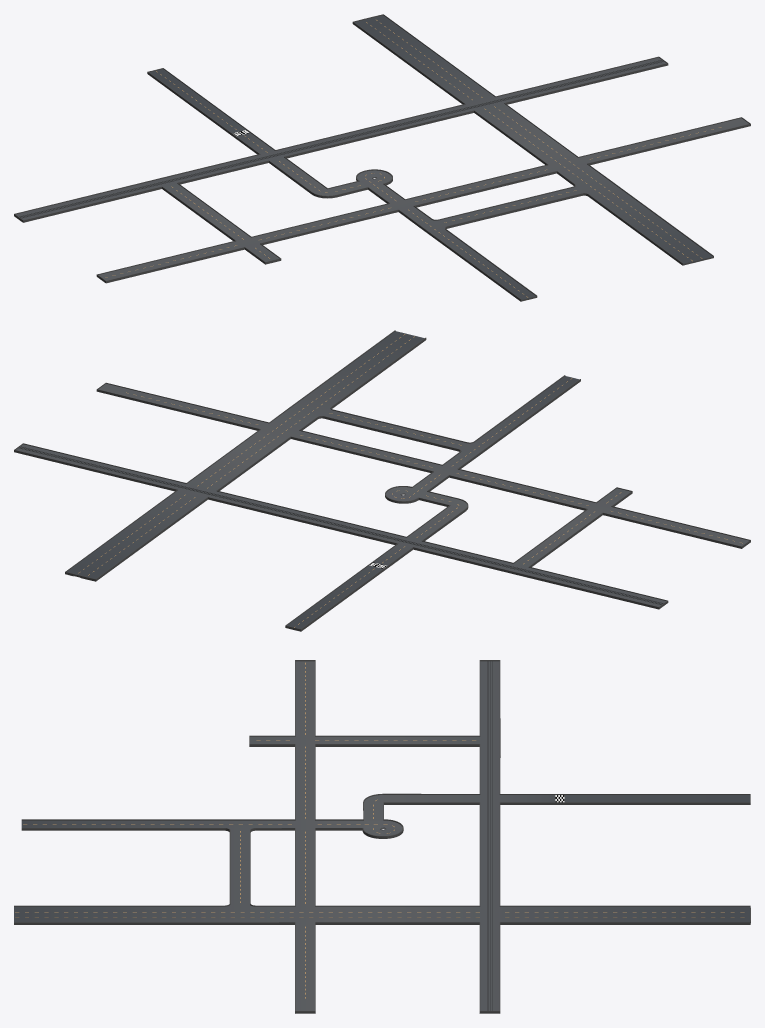
Rendered from Level4Test.fbx.
The picture shows the model from 3 angles, top to bottom: view 1: azimuth 30°, elevation 25°; view 2: azimuth 150°, elevation 25°; view 3: azimuth 270°, elevation 25°; orthographic projection. The views are drawn at different scales.
Parts seen in each view (by area): view 1: Levl4; view 2: Levl4; view 3: Levl4.
Part boxes in pixels (x1,y1,x2,y2): Levl4: [14, 14, 750, 301]; Levl4: [14, 330, 750, 631]; Levl4: [14, 660, 750, 1013].
Size of the model in its own units: 12946 by 43.58 by 11481.
